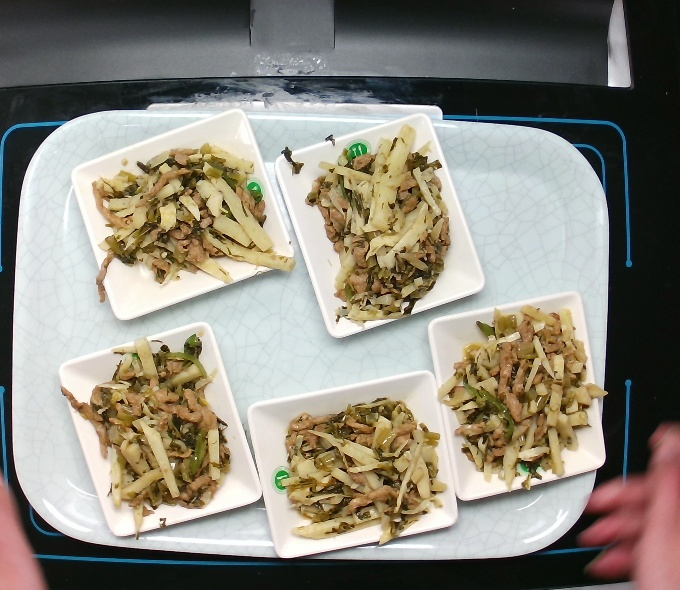wcq-RouSiDongSun: (88, 127, 292, 304), (69, 331, 246, 521), (310, 144, 487, 334), (438, 305, 604, 487), (268, 393, 454, 544)
